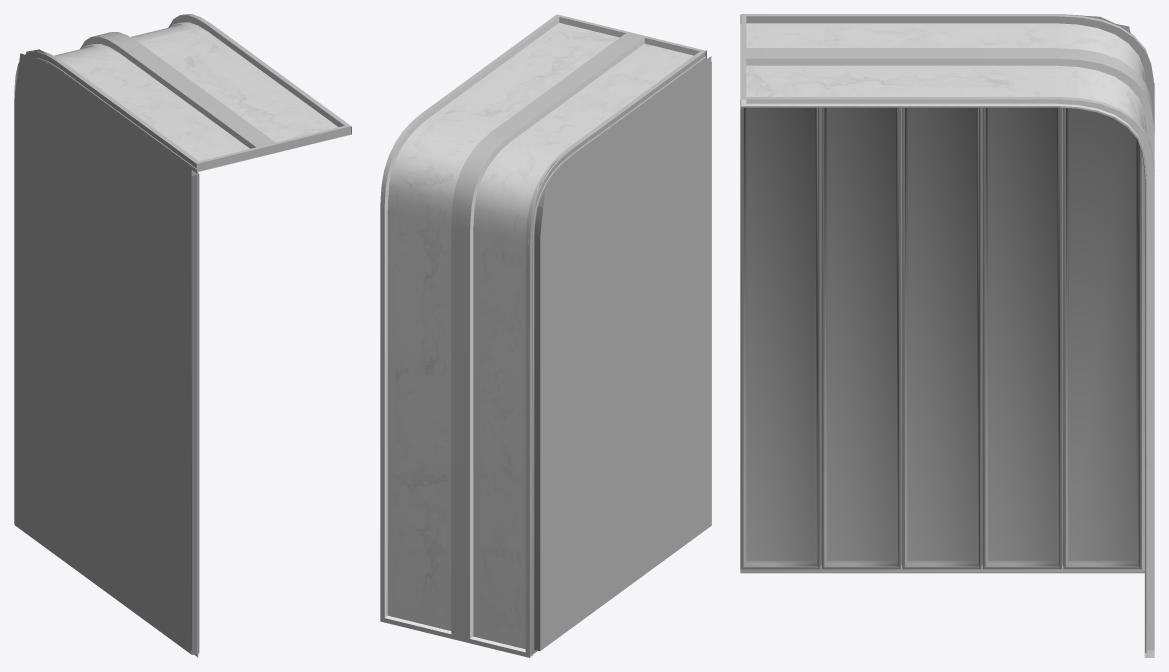
3 renders of one model, left to right at view 1: azimuth 30°, elevation 25°; view 2: azimuth 150°, elevation 25°; view 3: azimuth 270°, elevation 25°, orthographic. The views are drawn at different scales.
Visible parts, largest first — view 1: M_W_010_i_4x12; view 2: M_W_010_i_4x12; view 3: M_W_010_i_4x12.
Part boxes in pixels (left/top/right/bottom): M_W_010_i_4x12: left=14, top=14, right=351, bottom=657; M_W_010_i_4x12: left=380, top=14, right=711, bottom=657; M_W_010_i_4x12: left=740, top=14, right=1154, bottom=657.
Size of the model in its own units: 4.13 by 12.2 by 8.2.
